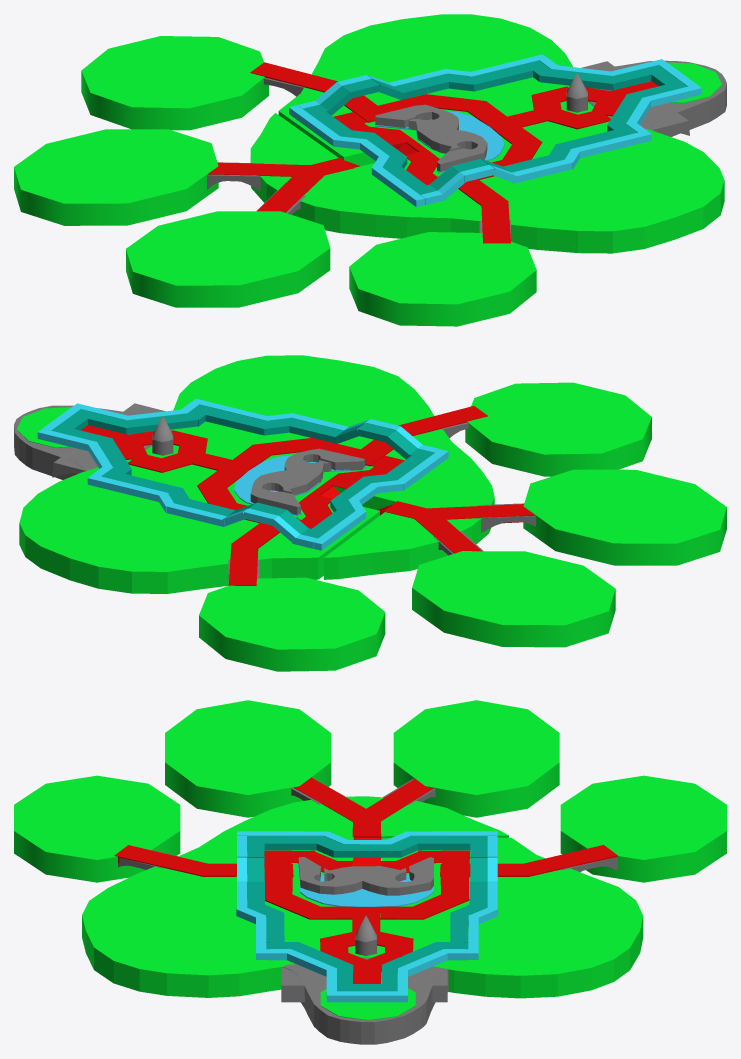
File: Blockout_02.fbx
3 views of the same model, one above another, from view 1: azimuth 30°, elevation 25°; view 2: azimuth 150°, elevation 25°; view 3: azimuth 270°, elevation 25° (orthographic). The views are drawn at different scales.
Visible parts, largest first — view 1: Isle_Paw, Isle_Fing__1_, Isle_Fing__2_, Isle_Fing__3_, Isle_Fing, CatLakeMask, Isle_StationBridge, Template_EnemyPath__6__4, Template_EnemyPath__5__4, Template_EnemyPath__15_, Template_EnemyPath__15__1, CatLake (+21 smaller); view 2: Isle_Paw, Isle_Fing__2_, Isle_Fing__1_, Isle_Fing__3_, Isle_Fing, CatLakeMask, Isle_StationBridge, Template_EnemyPath__5__4, Template_EnemyPath__15__1, Template_EnemyPath__6__4, Template_EnemyPath__15_, CatLake (+21 smaller); view 3: Isle_Paw, Isle_Fing__2_, Isle_Fing__1_, Isle_Fing__3_, Isle_Fing, Isle_StationBridge, CatLakeMask, CatLake, Isle_StationBase, Template_EnemyPath__15__1, Template_EnemyPath__5__4, StationBridge (+23 smaller).
Boxes of the visible parts, box(x1,y1,x2,y2) form: Isle_Paw: box(250, 14, 724, 253); Isle_Fing__1_: box(126, 211, 330, 307); Isle_Fing__2_: box(14, 129, 218, 225); Isle_Fing__3_: box(81, 36, 268, 130); Isle_Fing: box(349, 232, 536, 326); CatLakeMask: box(375, 104, 487, 171); Isle_StationBridge: box(588, 60, 726, 136); Template_EnemyPath__6__4: box(208, 162, 310, 181); Template_EnemyPath__5__4: box(257, 171, 324, 212); Template_EnemyPath__15_: box(481, 201, 510, 243); Template_EnemyPath__15__1: box(250, 62, 337, 92); CatLake: box(375, 111, 504, 173); Isle_Paw: box(19, 355, 494, 593); Isle_Fing__2_: box(412, 551, 615, 647); Isle_Fing__1_: box(523, 469, 726, 565); Isle_Fing__3_: box(199, 577, 385, 671); Isle_Fing: box(465, 382, 651, 476); CatLakeMask: box(250, 448, 364, 514); Isle_StationBridge: box(14, 405, 151, 479); Template_EnemyPath__5__4: box(427, 504, 535, 523); Template_EnemyPath__15__1: box(228, 544, 258, 585); Template_EnemyPath__6__4: box(414, 513, 481, 553); Template_EnemyPath__15_: box(398, 406, 487, 435); CatLake: box(234, 455, 366, 515); Isle_Paw: box(82, 796, 643, 998); Isle_Fing__2_: box(393, 700, 559, 817); Isle_Fing__1_: box(165, 700, 331, 817); Isle_Fing__3_: box(560, 775, 726, 882); Isle_Fing: box(14, 775, 180, 882); Isle_StationBridge: box(283, 958, 448, 1044); CatLakeMask: box(298, 857, 433, 895); CatLake: box(298, 864, 433, 906); Isle_StationBase: box(320, 979, 415, 1020); Template_EnemyPath__15__1: box(517, 845, 617, 876); Template_EnemyPath__5__4: box(294, 777, 374, 821); StationBridge: box(281, 967, 447, 1002).
Bounding box in the file's own units: 15226 × 1487 × 14279.
